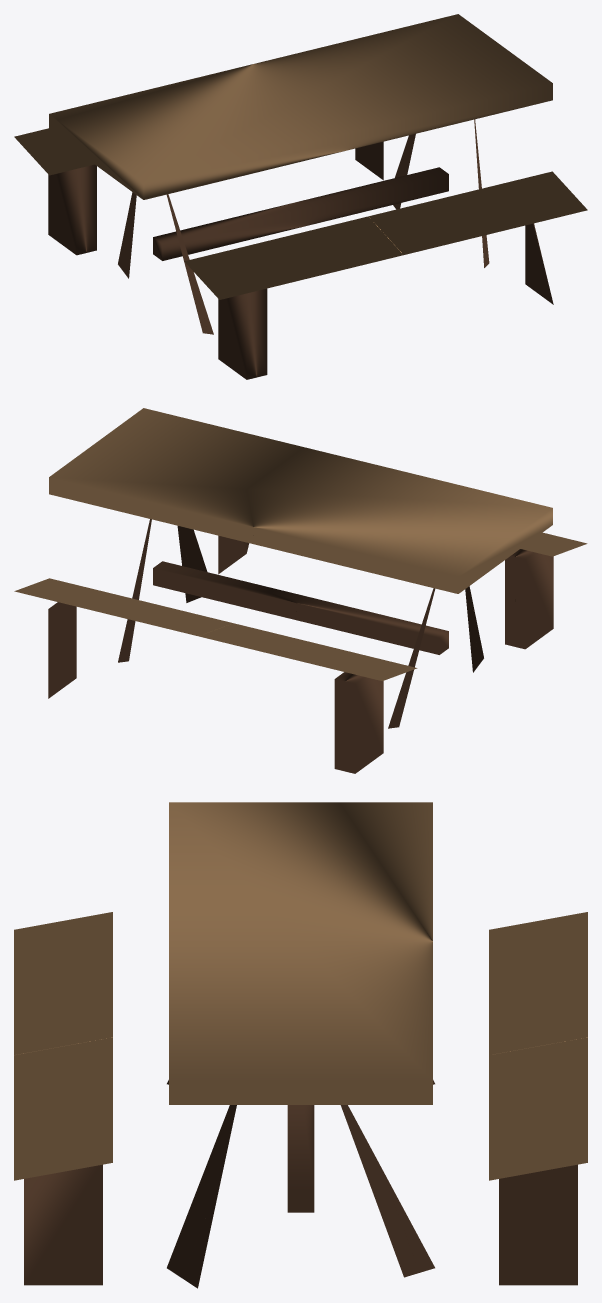
The model's file is table_bench_lod1.glb.
3 renders of one model, top to bottom at view 1: azimuth 30°, elevation 25°; view 2: azimuth 150°, elevation 25°; view 3: azimuth 270°, elevation 25°, orthographic. The views are drawn at different scales.
Size of the model in its own units: 2 by 0.8158 by 1.74.
